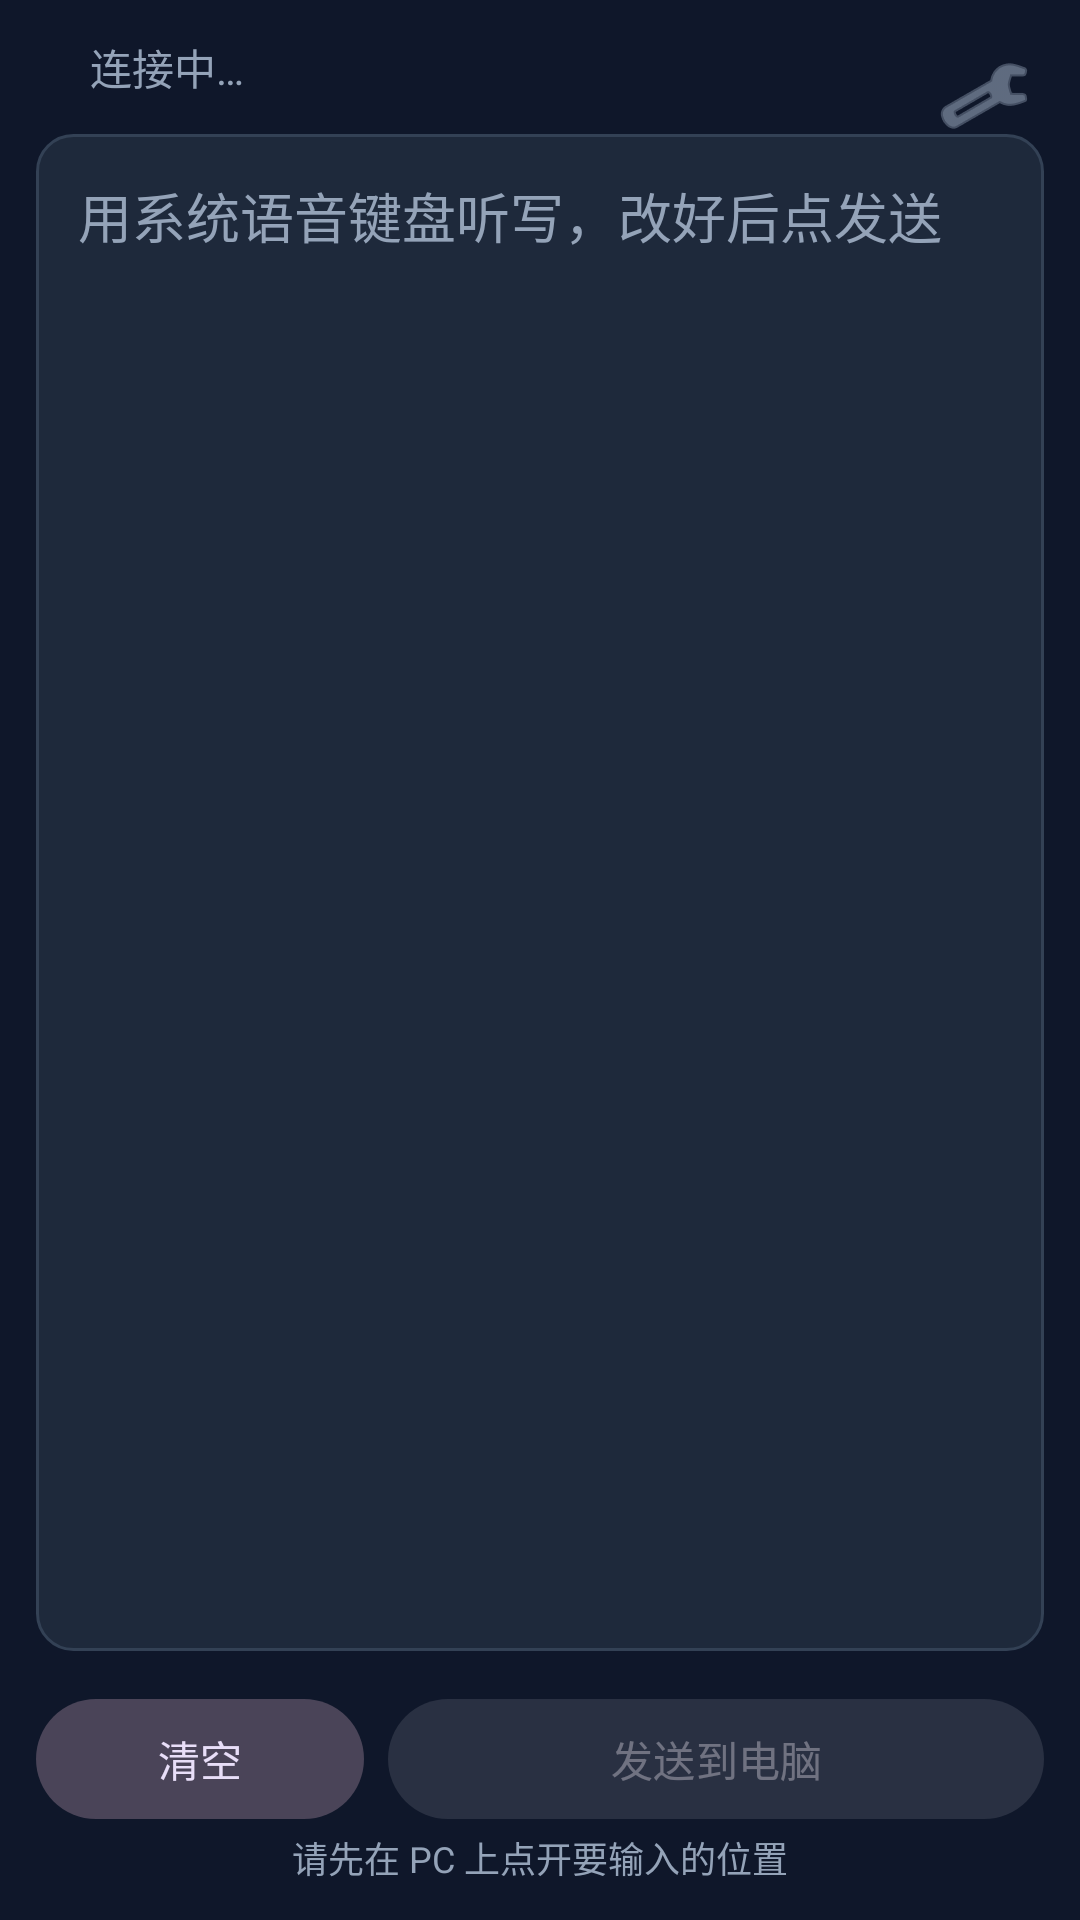

Where icons sit on this 1080*1920 app screen, as [x1=x1, y1=y1, x2=x2, y2=y2]:
连接设置: [x1=941, y1=63, x2=1027, y2=129]
